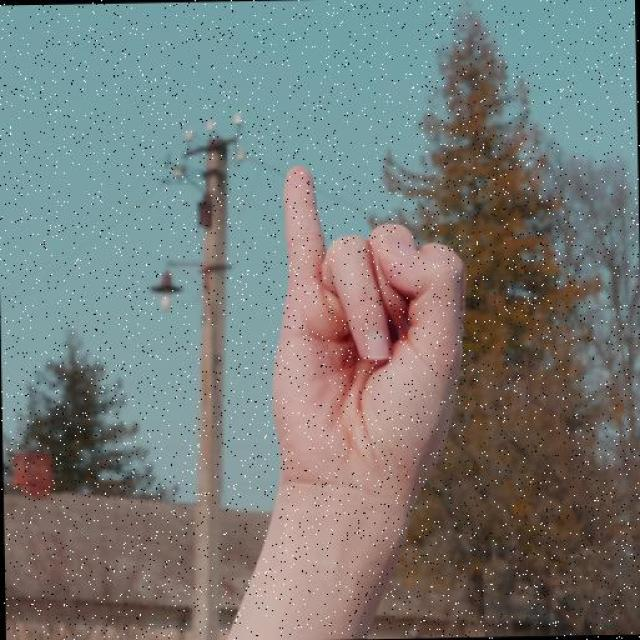I: (236, 132, 511, 599)
